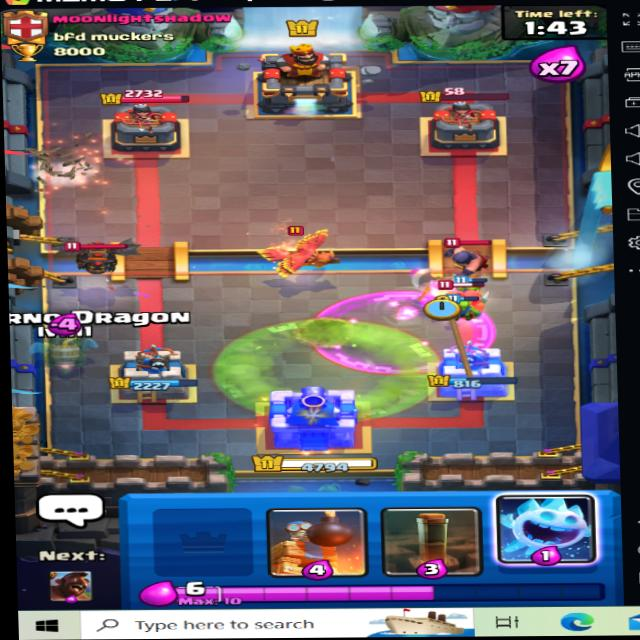executioner: (431, 240, 498, 280)
goblin-curse: (202, 317, 438, 422)
lava-hound: (54, 236, 150, 276)
phoenix: (246, 219, 363, 280)
rage: (314, 286, 494, 375)
